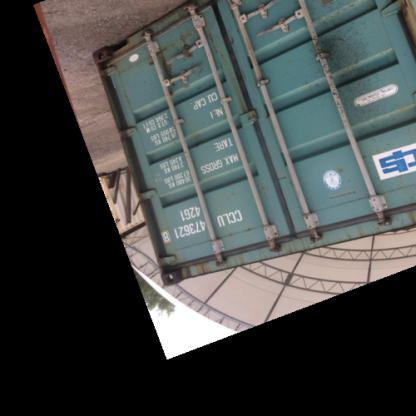Damage: (315, 30, 369, 146), (160, 247, 252, 292), (155, 10, 200, 100), (338, 204, 414, 247)
